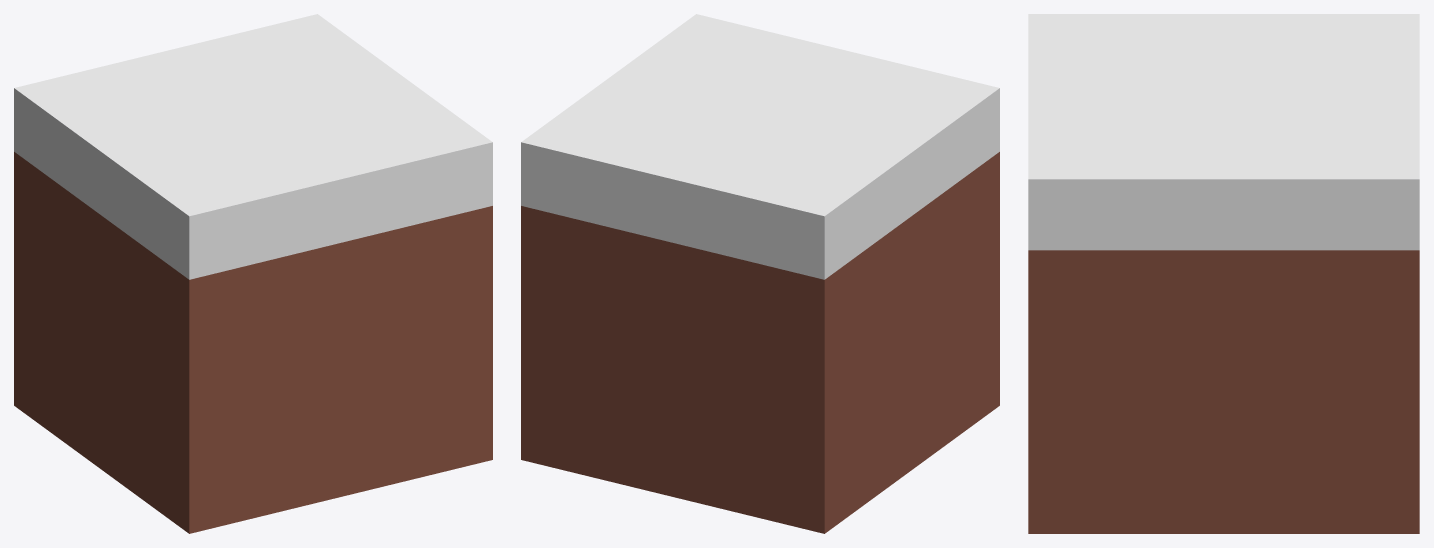
File: Mesh_Ground_Base.glb
3 renders of one model, left to right at view 1: azimuth 30°, elevation 25°; view 2: azimuth 150°, elevation 25°; view 3: azimuth 270°, elevation 25°, orthographic. The views are drawn at different scales.
Visible parts, largest first — view 1: Mesh_Ground_Base; view 2: Mesh_Ground_Base; view 3: Mesh_Ground_Base.
Boxes of the visible parts, x1,y1,x2,y2 form: Mesh_Ground_Base: (14, 14, 492, 533); Mesh_Ground_Base: (521, 14, 999, 533); Mesh_Ground_Base: (1028, 14, 1419, 533).
Size of the model in its own units: 2 by 2 by 2.
1 material, 1 textured.
